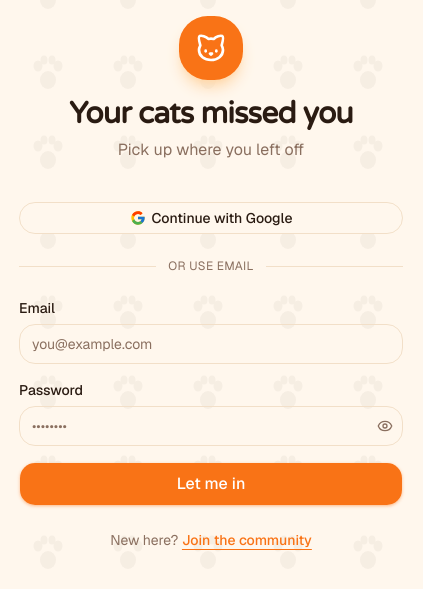
Test: LoginPage › shows validation error for short password
The width and height of the screenshot is (423, 589).
Type "user@example.com" into the field labelled "Email" at (211, 344), box [19,324,403,364]
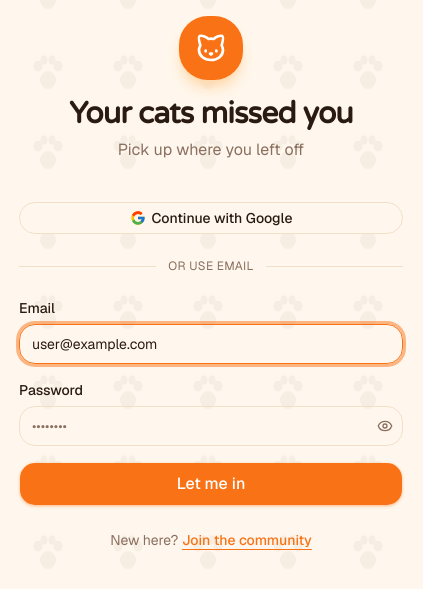
Type "12345" into the password field labelled "Password" at (211, 426), box [19,406,403,446]
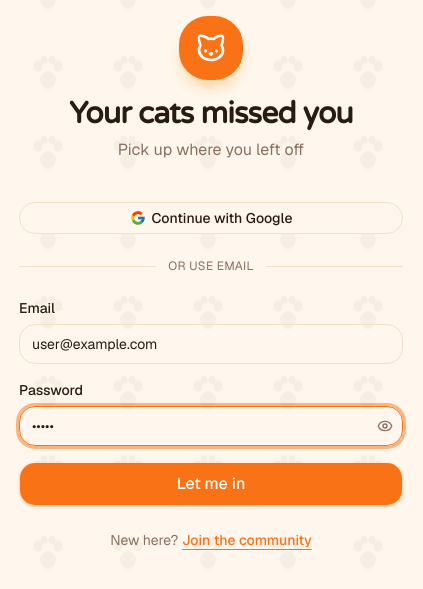
Click the button "Let me in" at (211, 484), box [19,462,403,506]
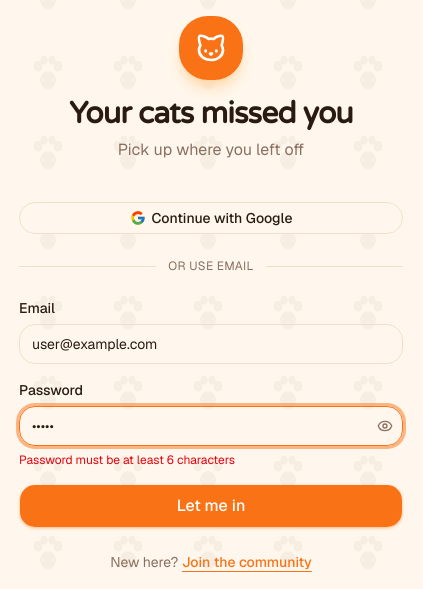
expect the text "Password must be at least 6 characters" is shown: met, box [19,452,235,468]
